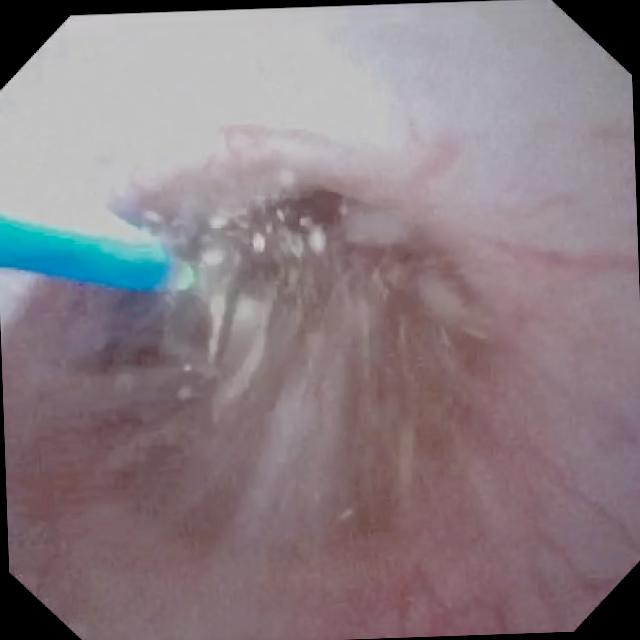laser-fibre: (168, 261, 191, 288)
